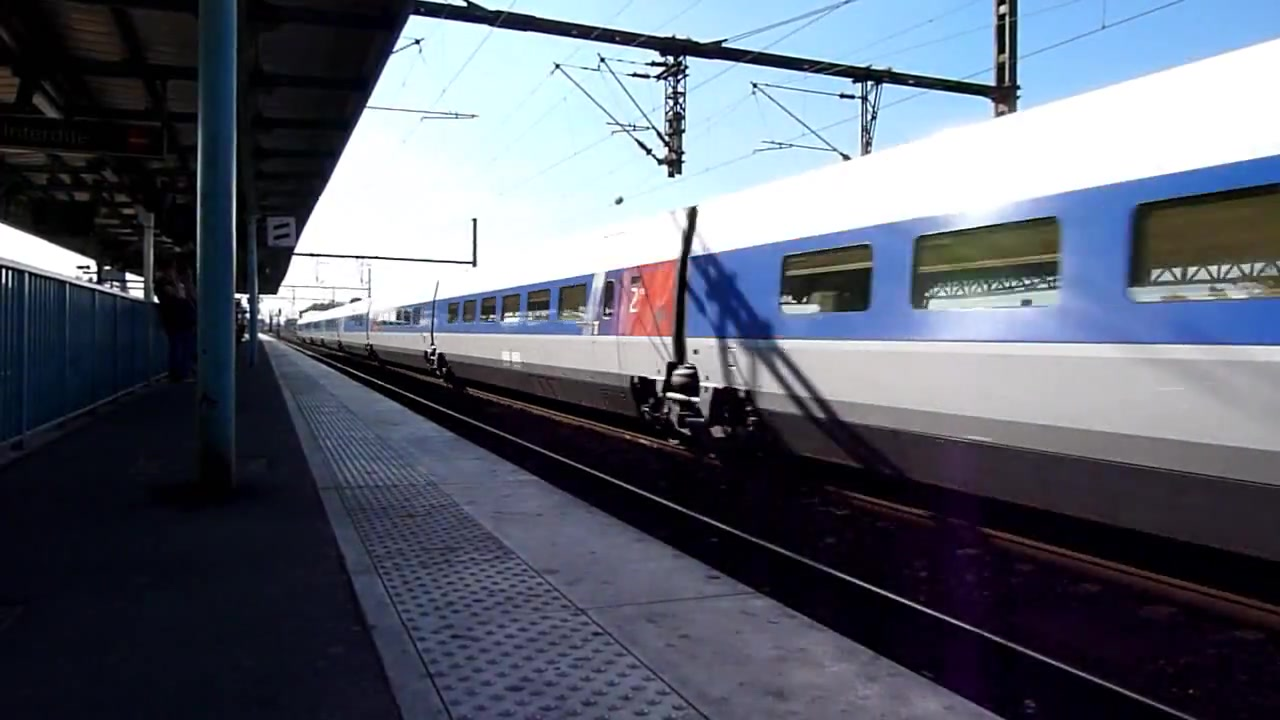train: (290, 35, 1280, 570)
